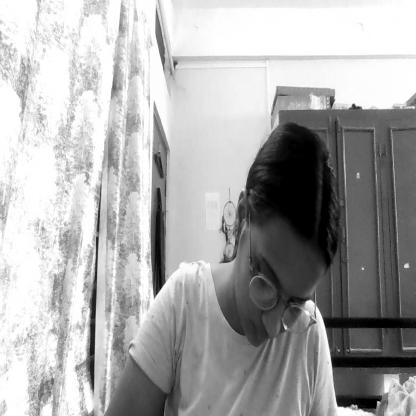Distracted: (230, 123, 340, 353)
